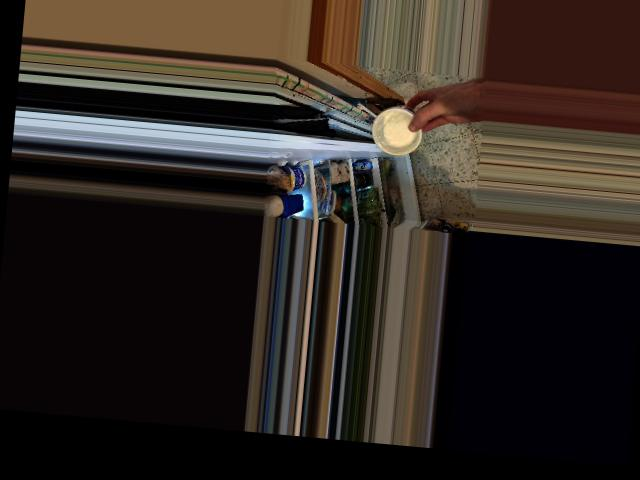cotage: (372, 100, 426, 154)
